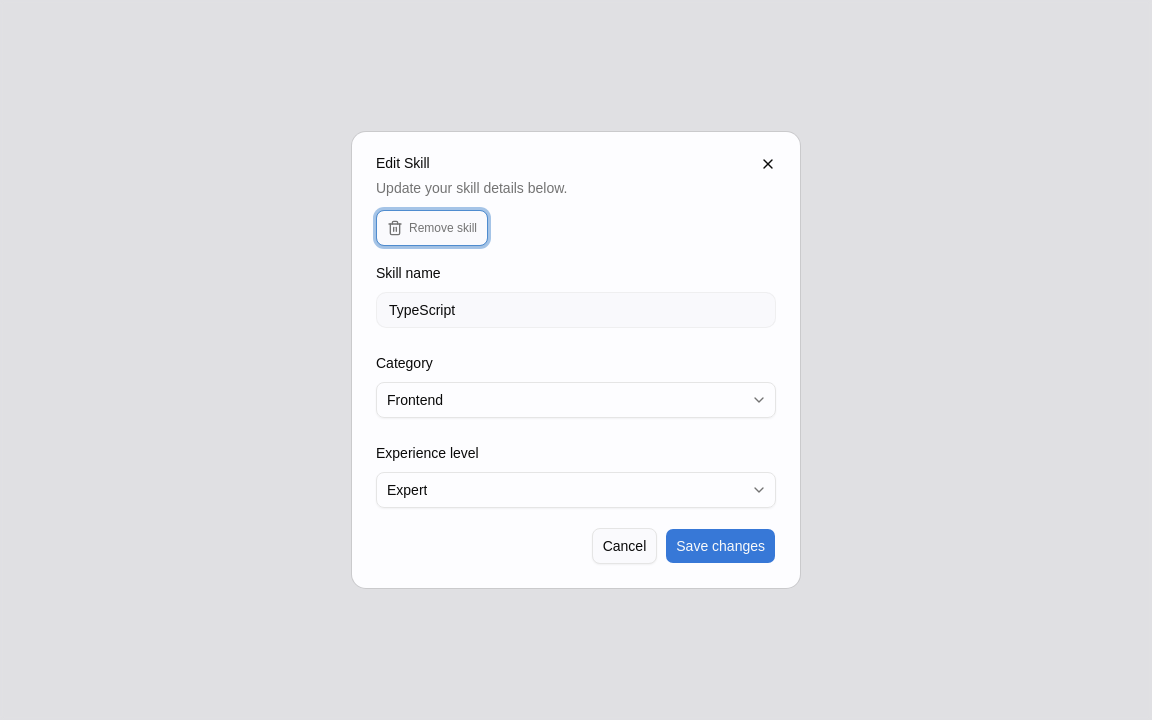
it: EditSkillDialog › shows confirmation UI when the remove button is clicked
Step 1. Click the button "Remove skill" → [432, 228], box [376,210,488,246]
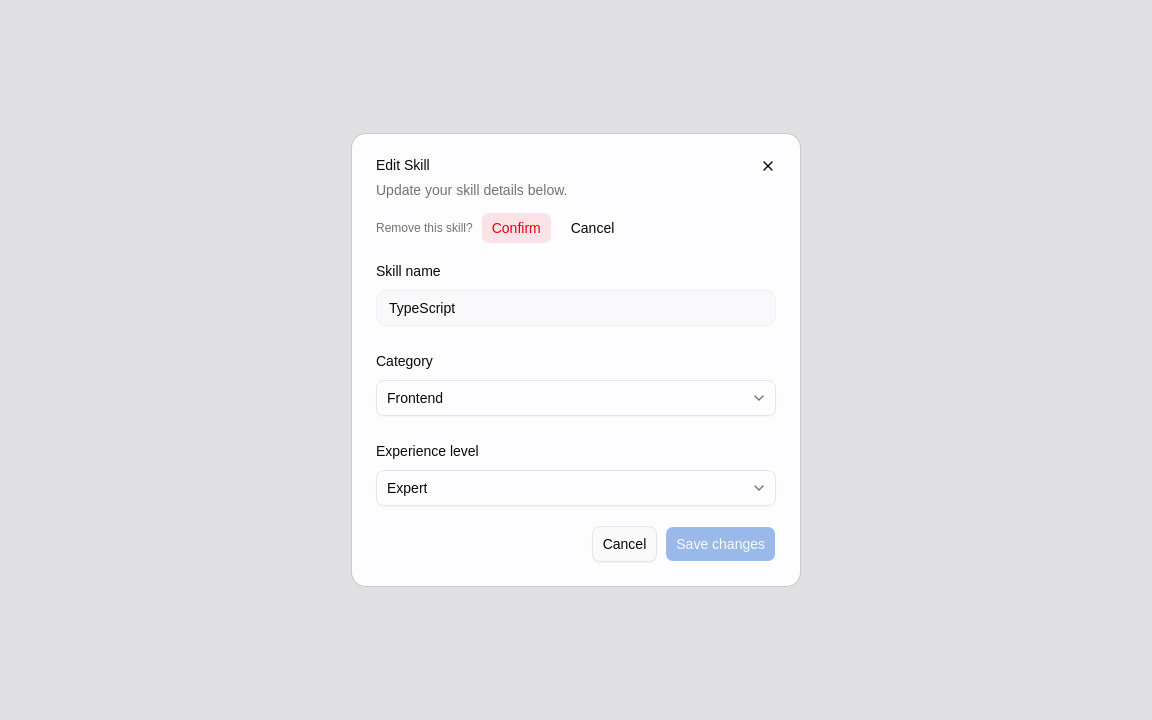
Expected: the text "Remove this skill?" is shown, [376,220,473,236]
Expected: the button "Confirm" is shown, [481,212,552,244]
